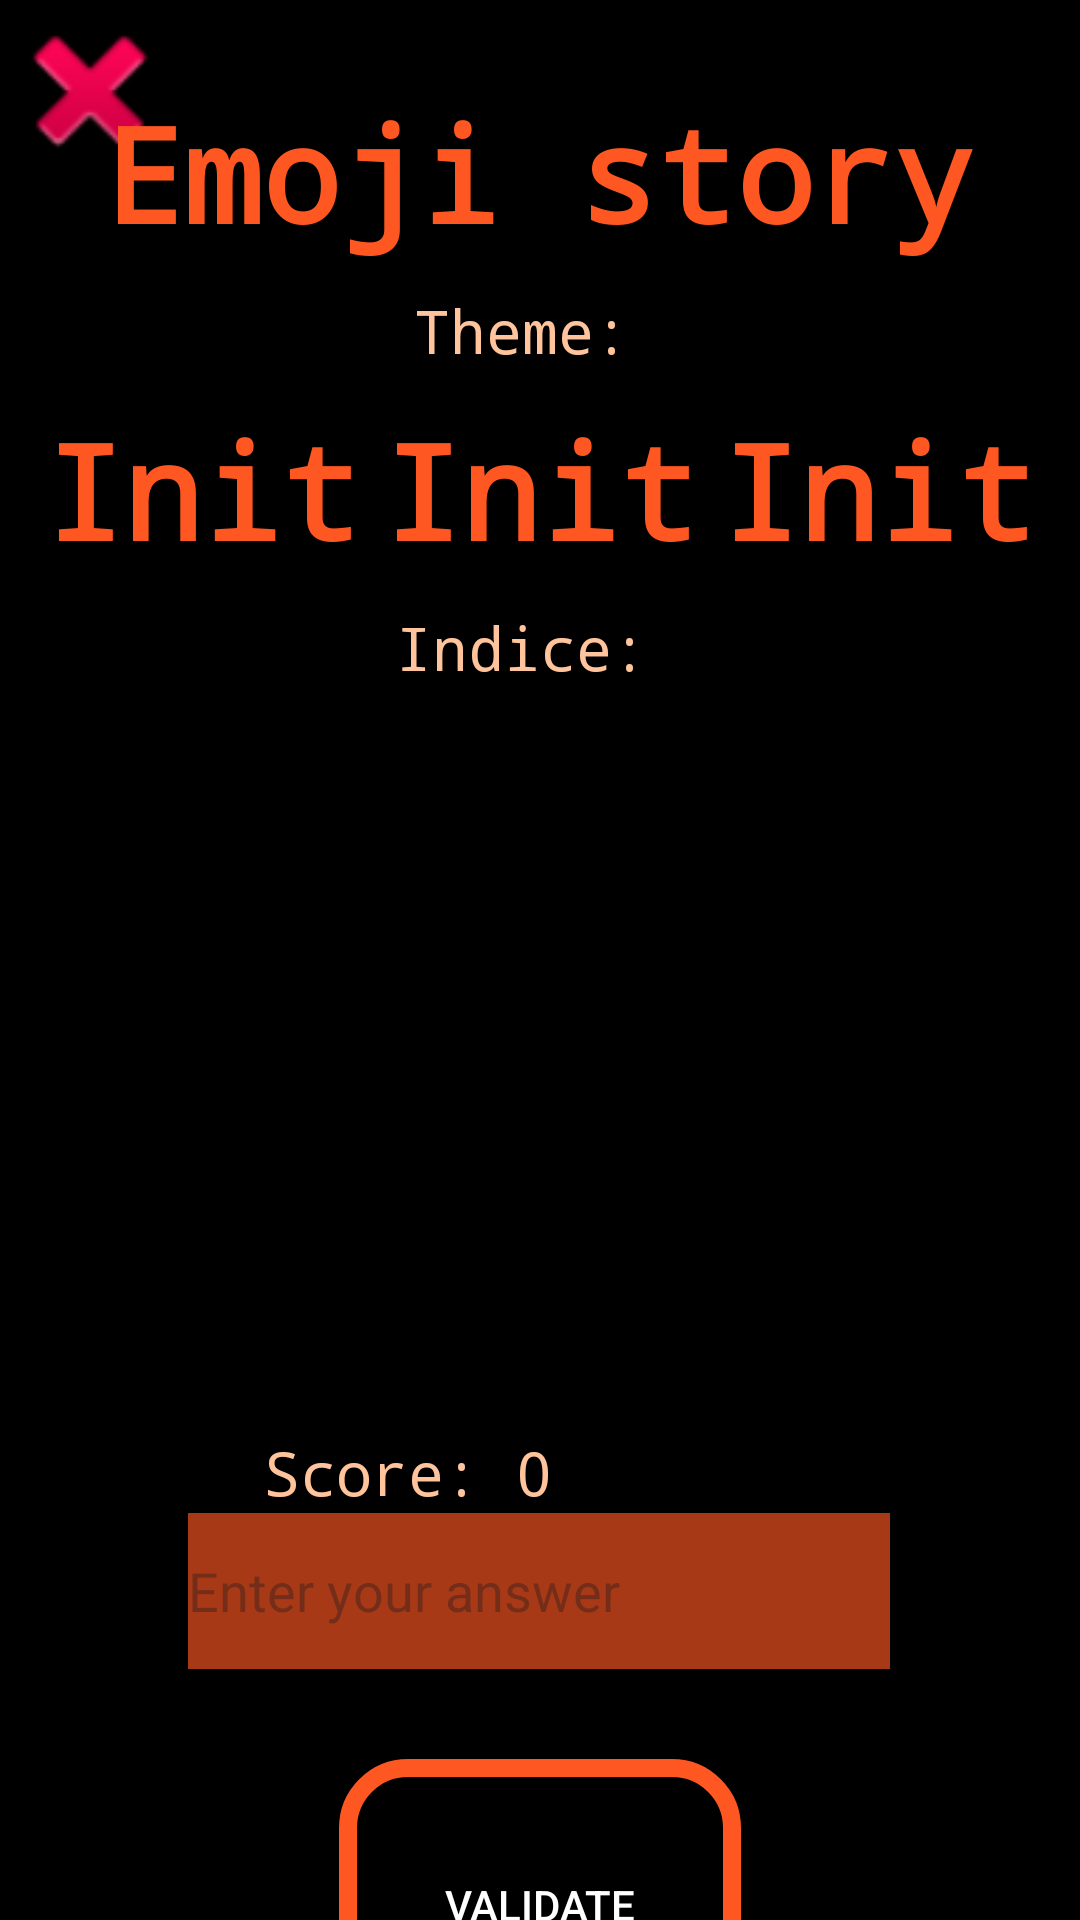

Icon bounding boxes for this 1080*1920 phone screenshot, format (x1, y1, x2, y2):
delete: (33, 36, 176, 180)
